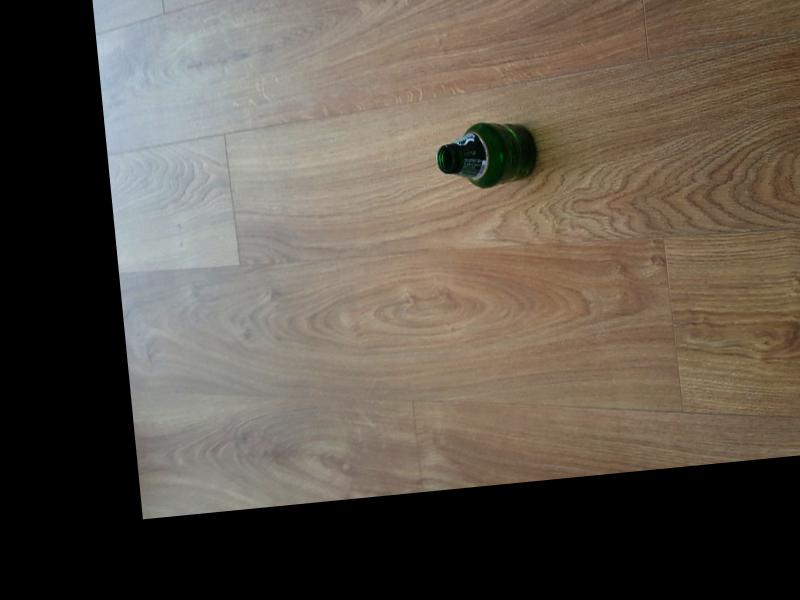Beer: (434, 119, 541, 197)
